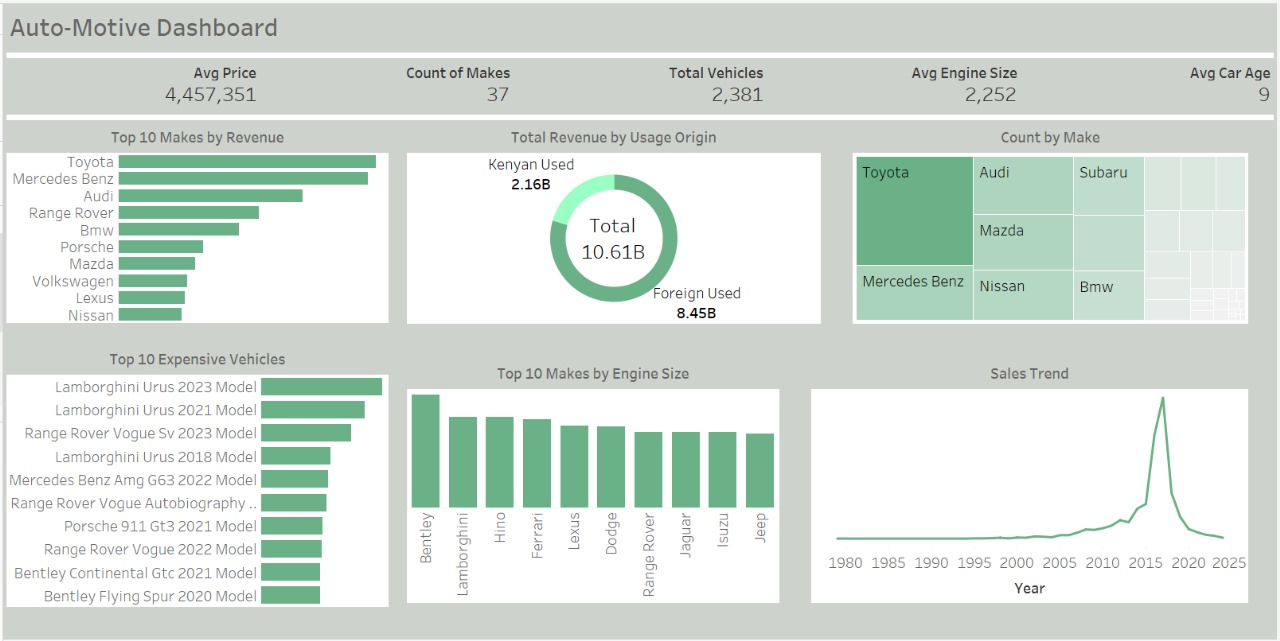

What the dashboard file says about the page in this screenshot:
{"tool":"tableau","page":{"name":"Dashboard","canvas":[1600,800],"ordinal":0},"visuals":[{"type":"text","box":[0,0,567.5,65]},{"type":"blank","box":[567.5,0,10,65]},{"type":"filter","title":"Top 10 Makes by Revenue","param":"[federated.19sfm5003uep7b13yt24r1xoxb0n].[none:Price_Range:nk]","box":[577.5,0,567.5,65]},{"type":"filter","title":"Top 10 Makes by Revenue","param":"[federated.19sfm5003uep7b13yt24r1xoxb0n].[none:Year:qk]","box":[1145,0,455,65]},{"type":"blank","box":[0,65,1600,15]},{"type":"text","box":[0,80,321,33]},{"type":"text","box":[321,80,339,33]},{"type":"text","box":[660,80,261,33]},{"type":"text","box":[921,80,350,33]},{"type":"text","box":[1271,80,329,33]},{"type":"worksheet","title":"Avg Price","mark":"Automatic","box":[0,113,321,105]},{"type":"worksheet","title":"Makes Count","mark":"Automatic","box":[321,113,339,105]},{"type":"worksheet","title":"Total Vehicles","mark":"Automatic","box":[660,113,261,105]},{"type":"worksheet","title":"Avg Engine Size","mark":"Automatic","box":[921,113,350,105]},{"type":"worksheet","title":"Avg Car Age","mark":"Automatic","box":[1271,113,329,105]},{"type":"text","box":[0,218,554,33]},{"type":"text","box":[554,218,554,33]},{"type":"text","box":[1108,218,492,33]},{"type":"worksheet","title":"Top 10 Makes by Revenue","mark":"Automatic","rows":["Make"],"cols":["Price"],"box":[0,251,554,224]},{"type":"worksheet","title":"Total Revenue by Usage Origin","mark":"Pie","cols":["Calculation_783907814217064450","Calculation_783907814217064450"],"box":[554,251,554,224]},{"type":"worksheet","title":"Count by Make","mark":"Automatic","box":[1108,251,492,224]},{"type":"text","box":[0,475,554,33]},{"type":"text","box":[554,475,554,33]},{"type":"text","box":[1108,475,492,33]},{"type":"worksheet","title":"Average Price by year","mark":"Automatic","rows":["Price"],"cols":["Year","Year"],"box":[0,508,554,215]},{"type":"worksheet","title":"Top 10 Makes by Avg Engine Size","mark":"Automatic","rows":["Engine_Size"],"cols":["Make"],"box":[554,508,554,215]},{"type":"worksheet","title":"Sales Trend","mark":"Automatic","rows":["Name"],"cols":["Year","Year"],"box":[1108,508,492,215]}]}

Visuals, with their boxes in screenshot pixels (x1, y1, x2, y2), scaled from the page's 1600x800 canvas onto the 1280x641 screenshot:
text: bbox(0, 0, 454, 52)
blank: bbox(454, 0, 462, 52)
"Top 10 Makes by Revenue" filter: bbox(462, 0, 916, 52)
"Top 10 Makes by Revenue" filter: bbox(916, 0, 1279, 52)
blank: bbox(0, 52, 1279, 64)
text: bbox(0, 64, 257, 91)
text: bbox(257, 64, 528, 91)
text: bbox(528, 64, 737, 91)
text: bbox(737, 64, 1017, 91)
text: bbox(1017, 64, 1279, 91)
"Avg Price" worksheet: bbox(0, 91, 257, 175)
"Makes Count" worksheet: bbox(257, 91, 528, 175)
"Total Vehicles" worksheet: bbox(528, 91, 737, 175)
"Avg Engine Size" worksheet: bbox(737, 91, 1017, 175)
"Avg Car Age" worksheet: bbox(1017, 91, 1279, 175)
text: bbox(0, 175, 443, 201)
text: bbox(443, 175, 886, 201)
text: bbox(886, 175, 1279, 201)
"Top 10 Makes by Revenue" worksheet: bbox(0, 201, 443, 381)
"Total Revenue by Usage Origin" worksheet (Pie marks): bbox(443, 201, 886, 381)
"Count by Make" worksheet: bbox(886, 201, 1279, 381)
text: bbox(0, 381, 443, 407)
text: bbox(443, 381, 886, 407)
text: bbox(886, 381, 1279, 407)
"Average Price by year" worksheet: bbox(0, 407, 443, 579)
"Top 10 Makes by Avg Engine Size" worksheet: bbox(443, 407, 886, 579)
"Sales Trend" worksheet: bbox(886, 407, 1279, 579)
